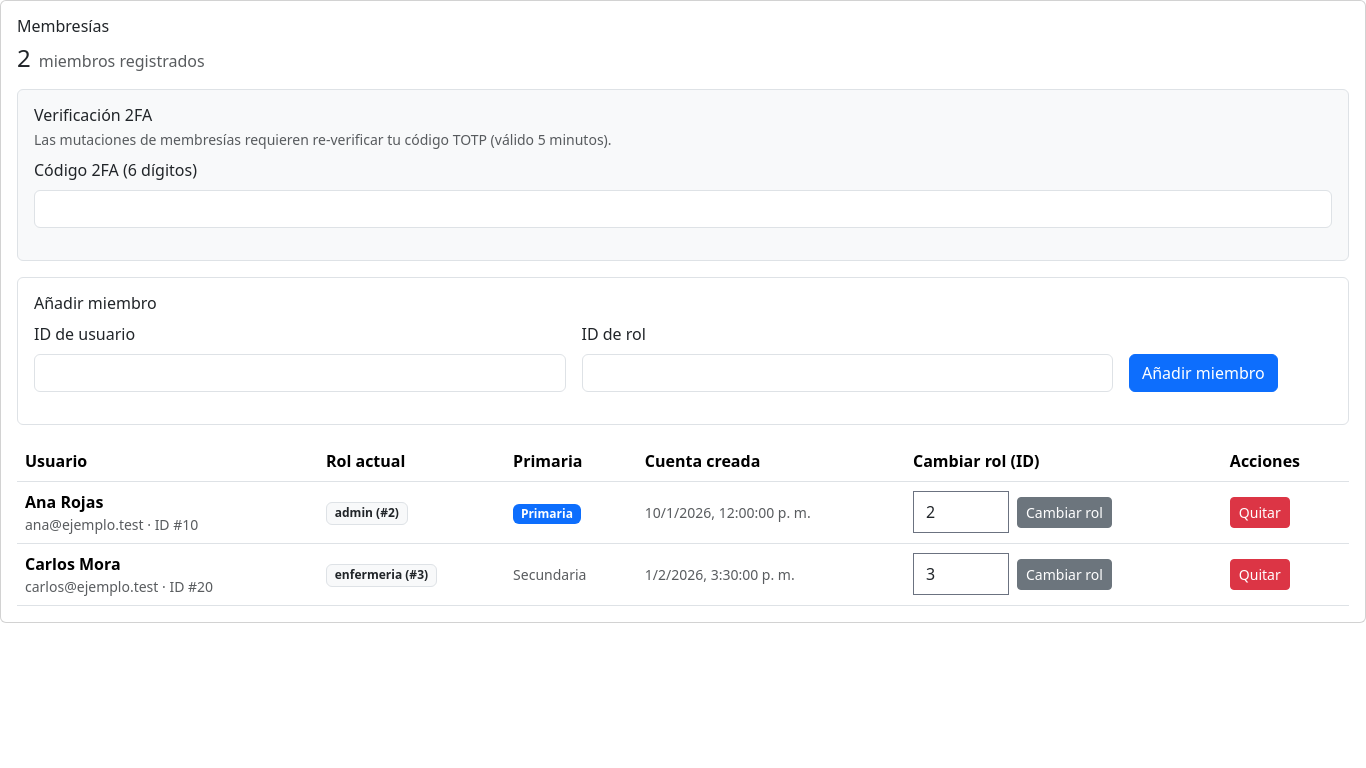
Test: PlatformOrganizationMembersSection › bloquea mutación con Alert si falta el código 2FA de 6 dígitos
Check: the text "Ana Rojas" is shown, box [25,491,103,513]
In the field labelled "ID de usuario": (300,373) [34,354,566,392], type "30"
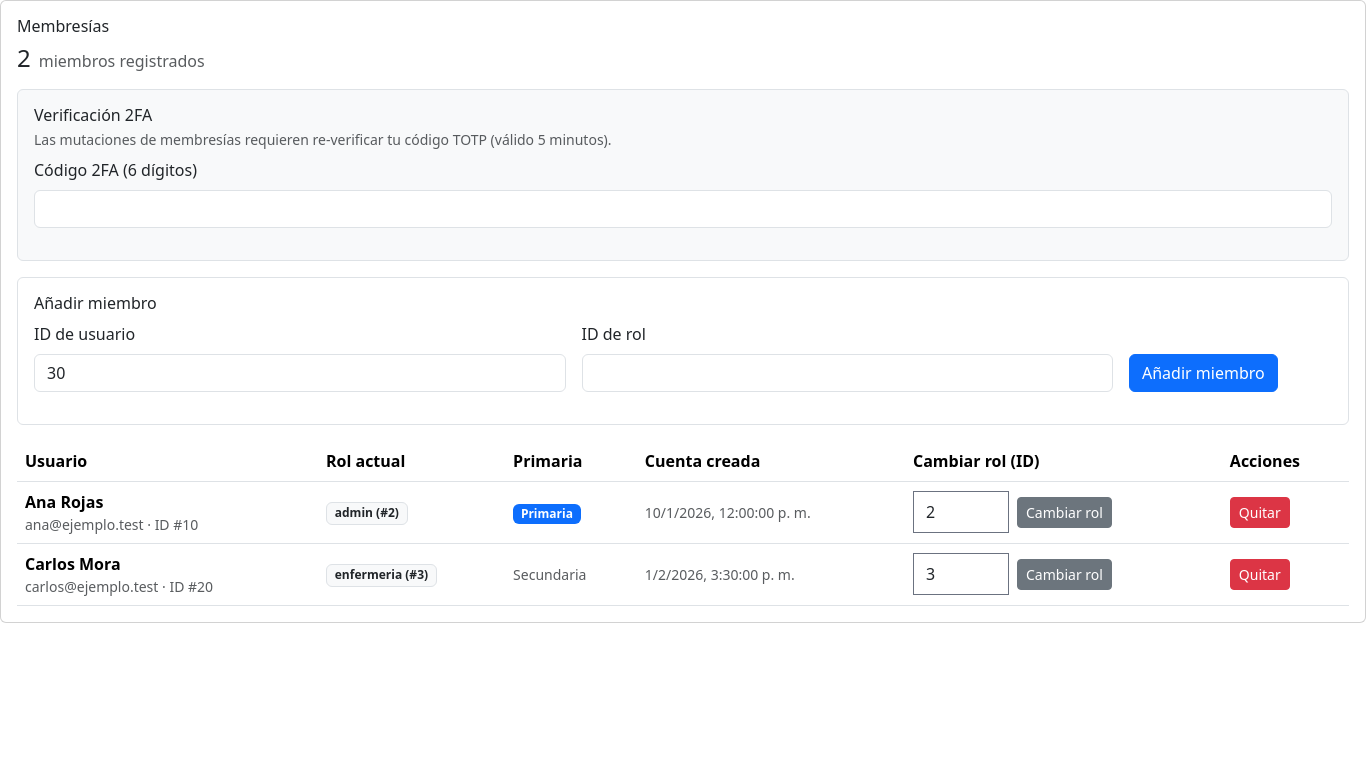
In the field labelled "ID de rol": (847,373) [582,354,1113,392], type "4"
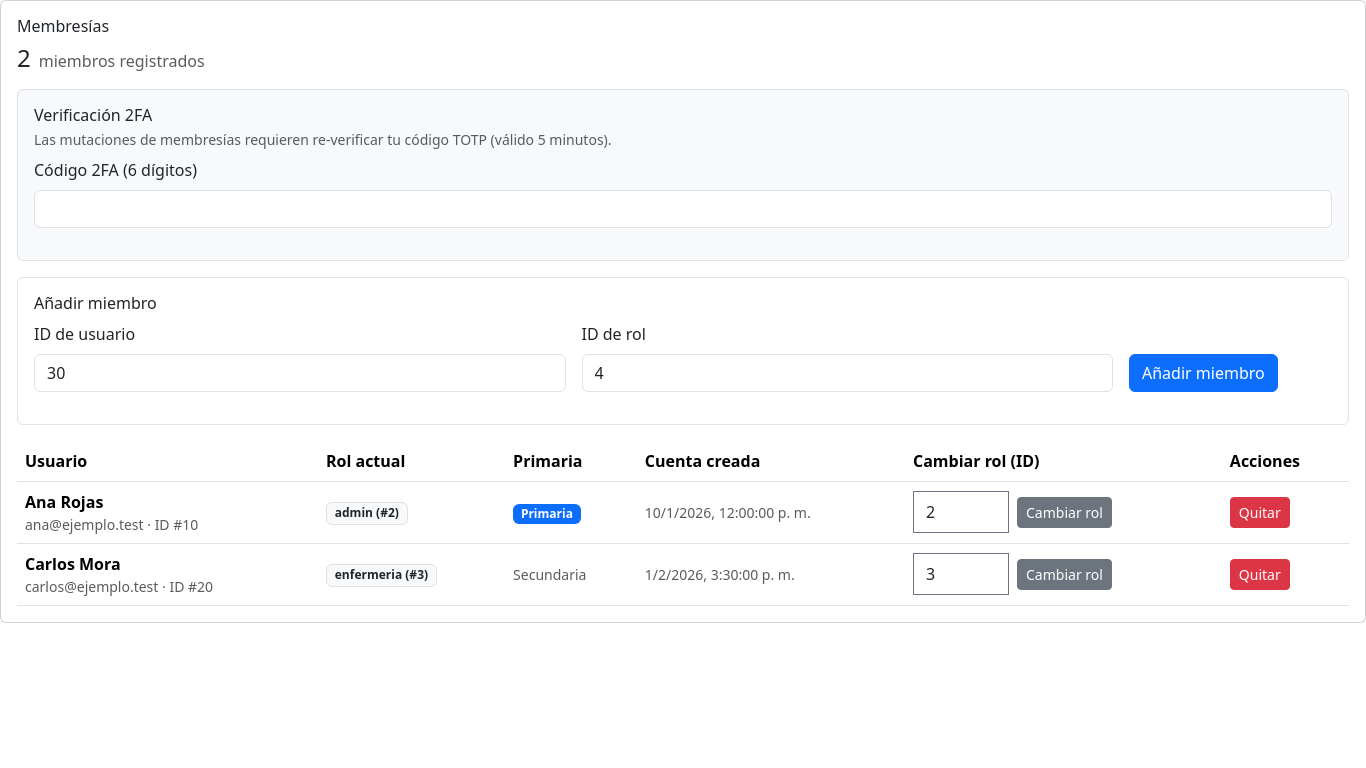
Click the button "Añadir miembro": (1203,373) [1129,354,1278,392]
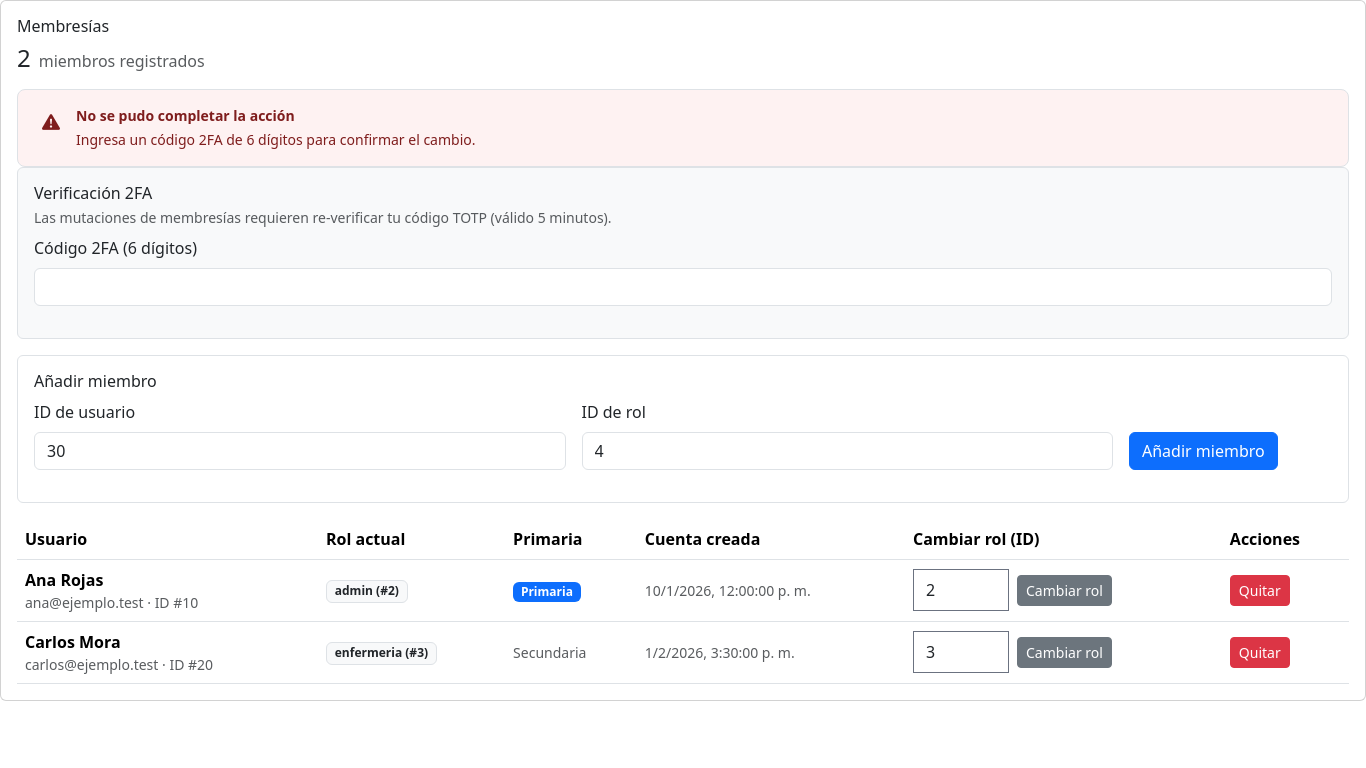
Check: the text "Ingresa un código 2FA de 6 dígitos para confirmar el cambio." is shown, box [76,130,476,149]
